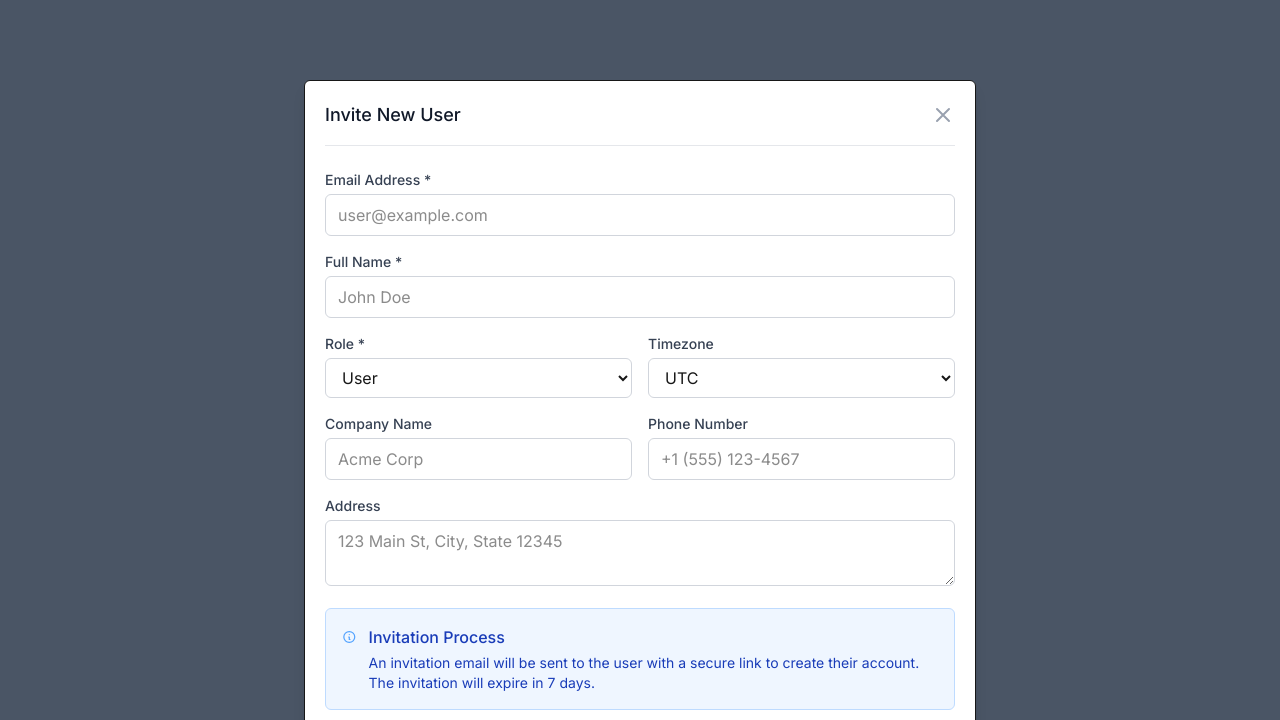
Test: InviteUserModal › should handle submission errors
Fill required fields
In the field labelled "Email Address *": (640, 215) [325,194,955,236], type "test@example.com"
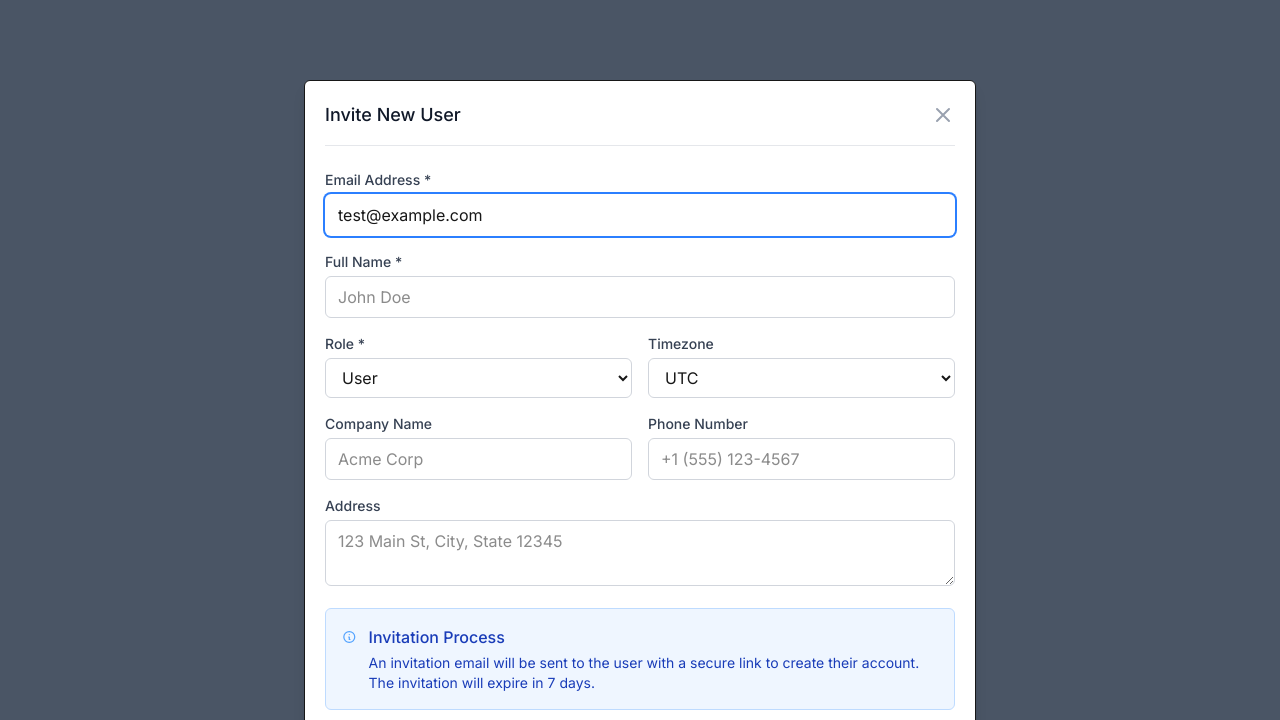
In the field labelled "Full Name *": (640, 297) [325,276,955,318], type "Test User"
(page scrolled)
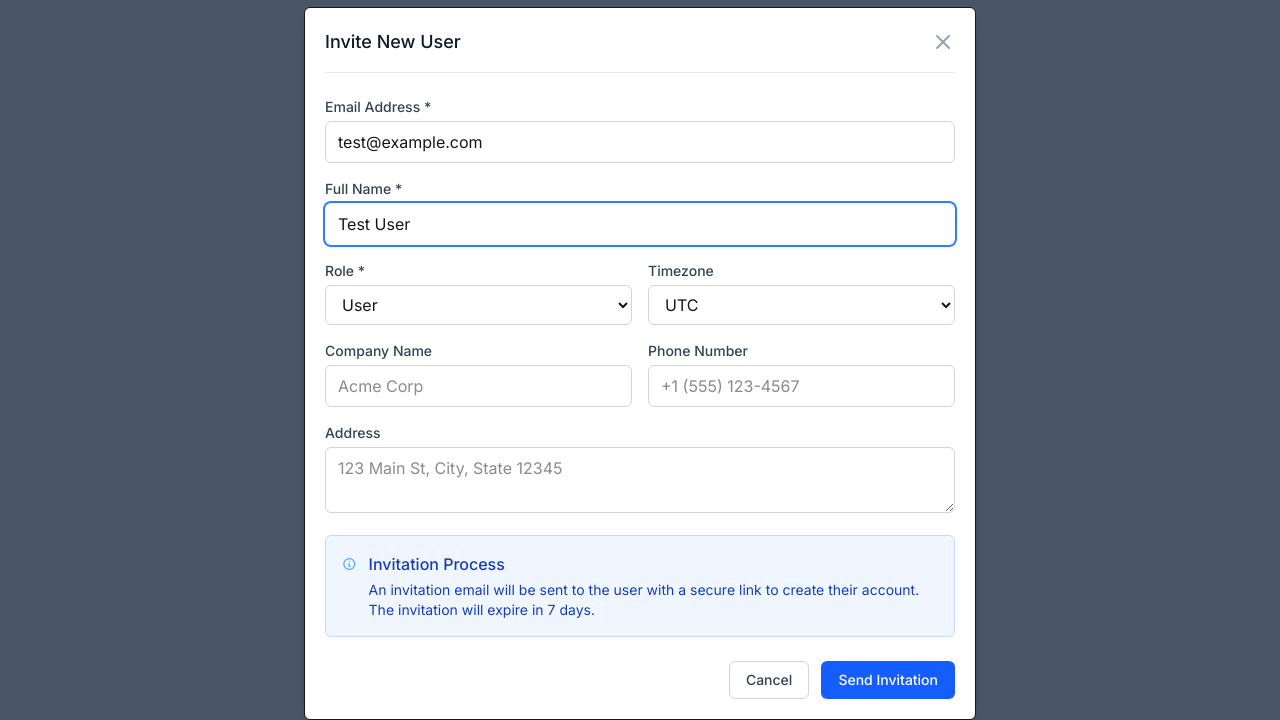
Click the button "Send Invitation": (888, 680) [821,661,955,699]
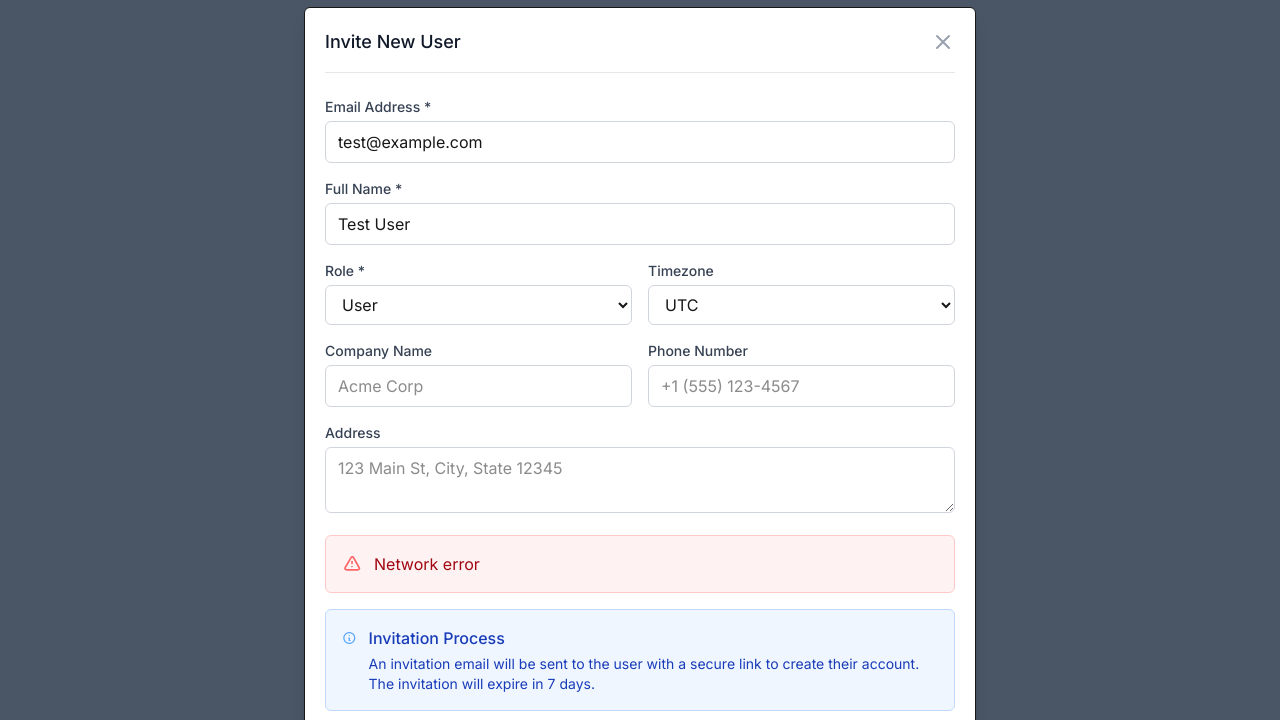
expect the text "Network error" is shown: met, box [374,552,480,576]
